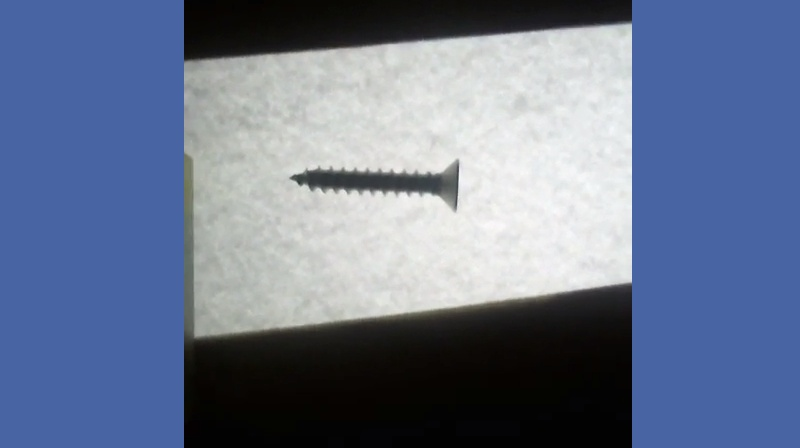S001: (285, 158, 462, 212)
